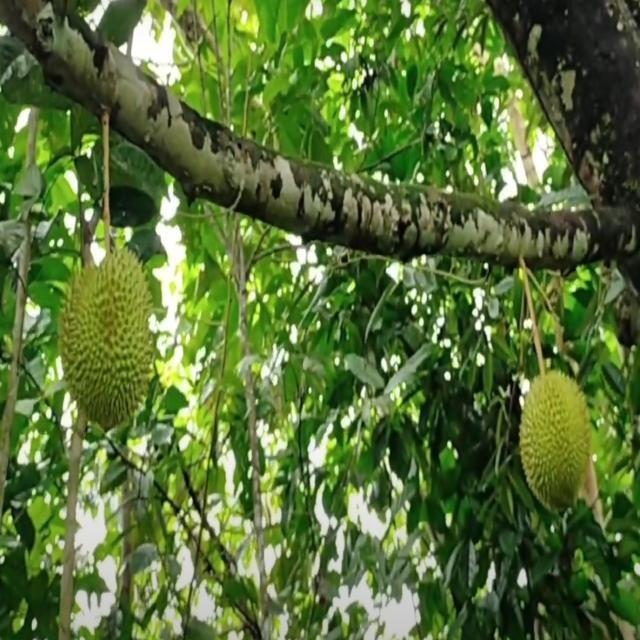immature: (57, 244, 156, 433), (519, 366, 594, 520)
